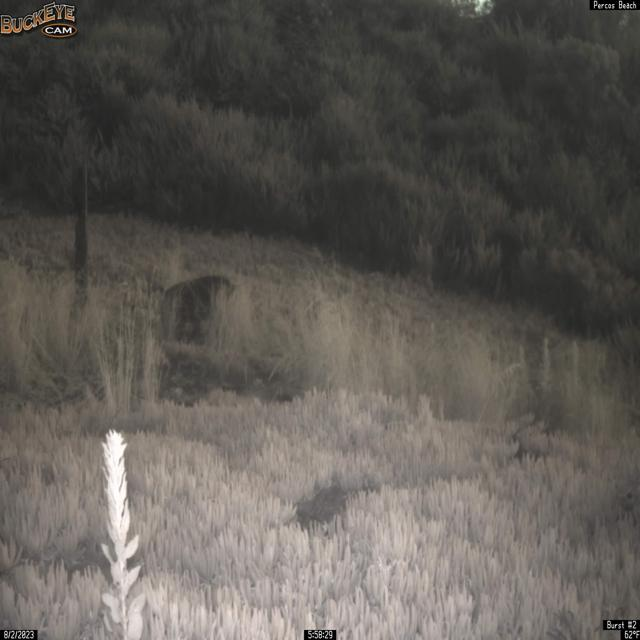pig: (148, 273, 237, 341)
